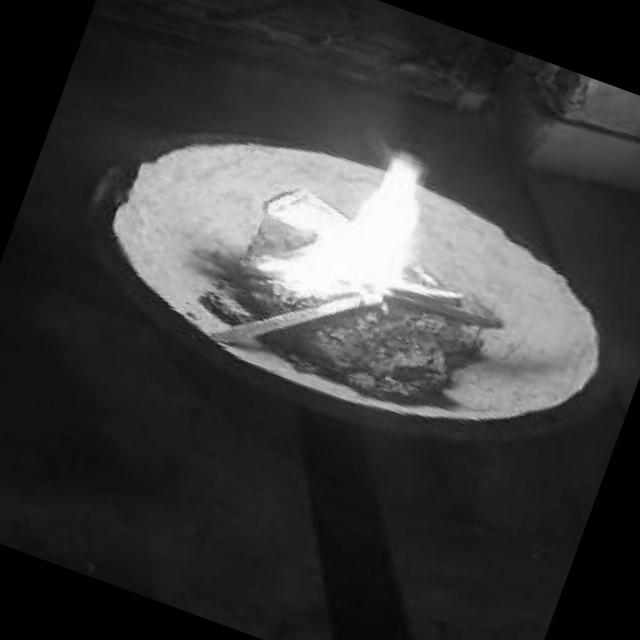fire: (213, 102, 456, 322)
